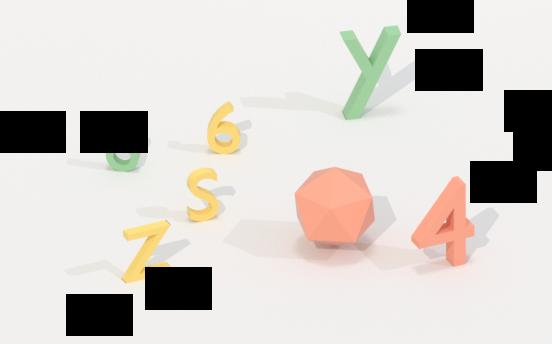4: (411, 164, 480, 269)
6: (103, 111, 144, 177), (204, 97, 241, 159)
Y: (340, 26, 401, 123)
dagiac: (293, 164, 377, 258)
s: (183, 167, 228, 226)
z: (119, 221, 176, 283)
